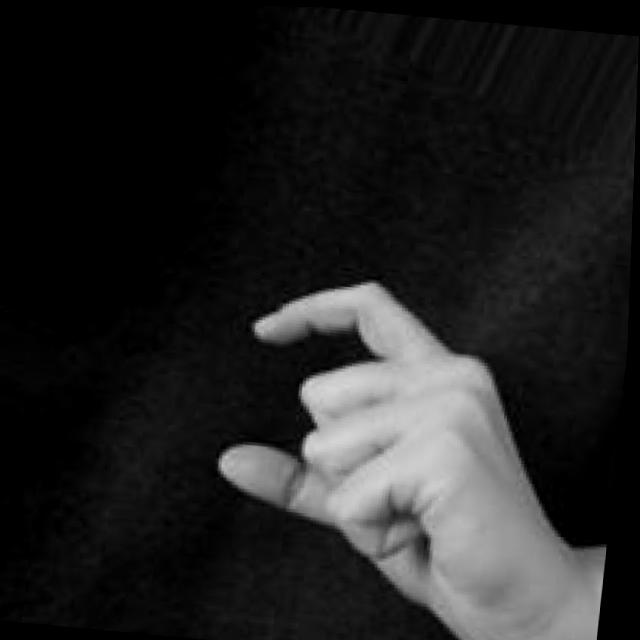C: (196, 262, 602, 640)
